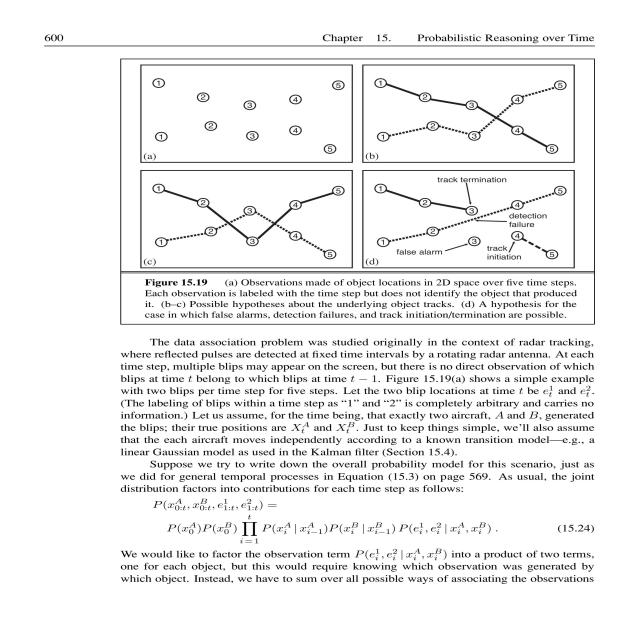diagram: (99, 50, 614, 332)
